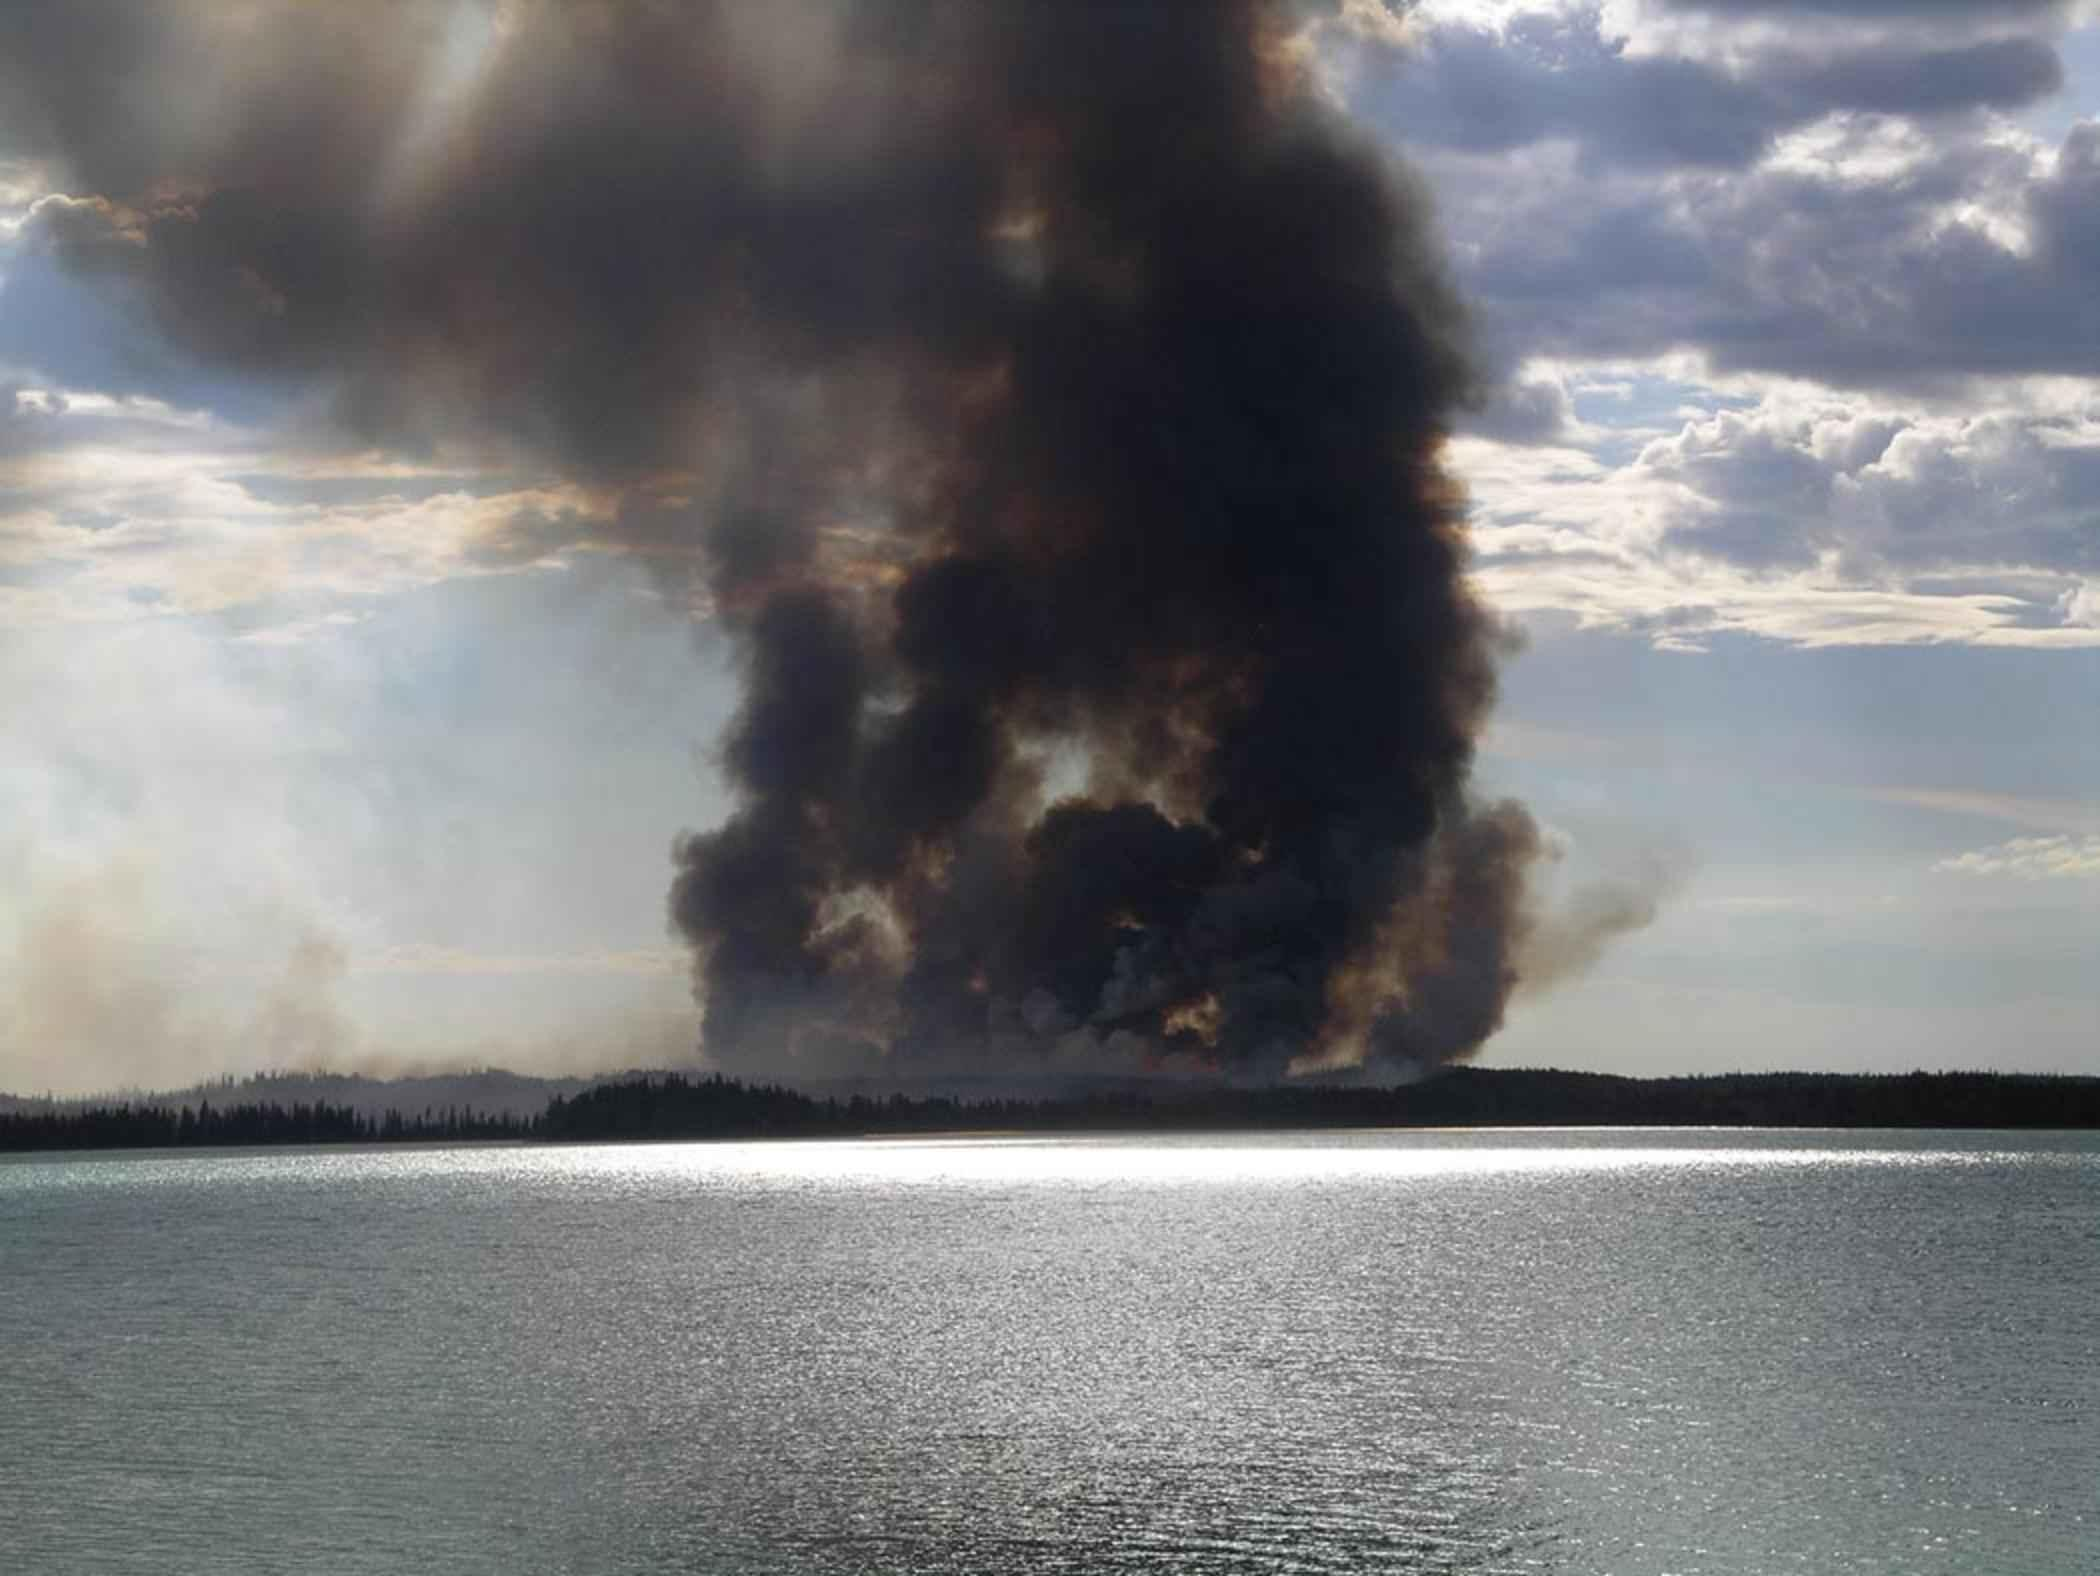smoke: (154, 3, 1493, 1078), (1345, 791, 1686, 1084)
